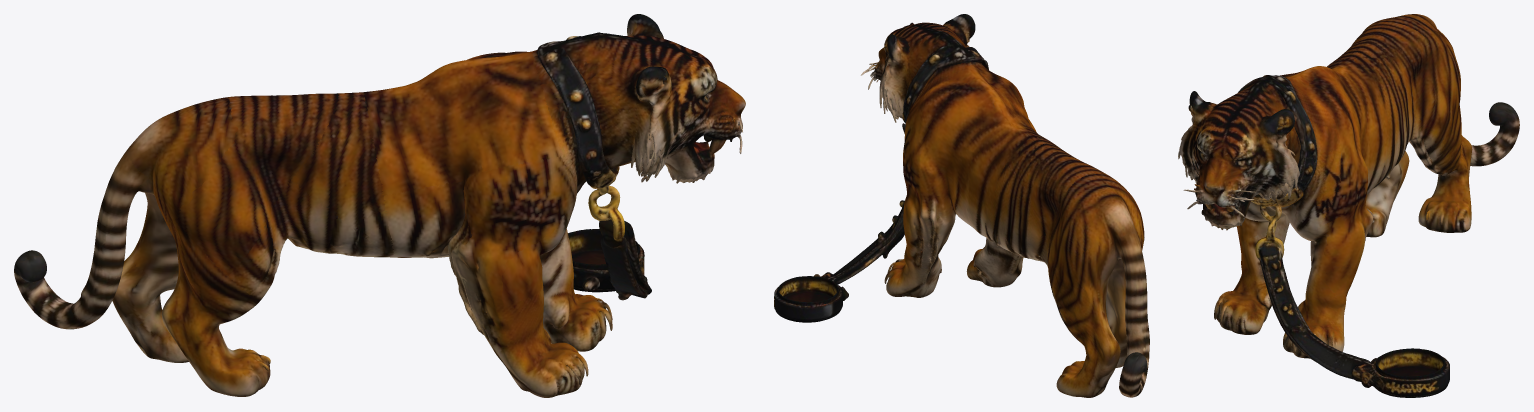
The model's file is TYSON.glb.
3 views of the same model, side by side, from view 1: azimuth 30°, elevation 25°; view 2: azimuth 150°, elevation 25°; view 3: azimuth 270°, elevation 25° (orthographic). The views are drawn at different scales.
Visible parts, largest first — view 1: tripo_node_0ab9580a-316b-46b4-85f7-d85eecf915dd; view 2: tripo_node_0ab9580a-316b-46b4-85f7-d85eecf915dd; view 3: tripo_node_0ab9580a-316b-46b4-85f7-d85eecf915dd.
Part boxes in pixels (box(x1,y1,x2,y2)): tripo_node_0ab9580a-316b-46b4-85f7-d85eecf915dd: box(14, 14, 745, 397); tripo_node_0ab9580a-316b-46b4-85f7-d85eecf915dd: box(774, 14, 1149, 397); tripo_node_0ab9580a-316b-46b4-85f7-d85eecf915dd: box(1178, 14, 1519, 397).
Bounding box in the file's own units: 1 × 0.5679 × 0.6606.
1 material, 1 textured.
